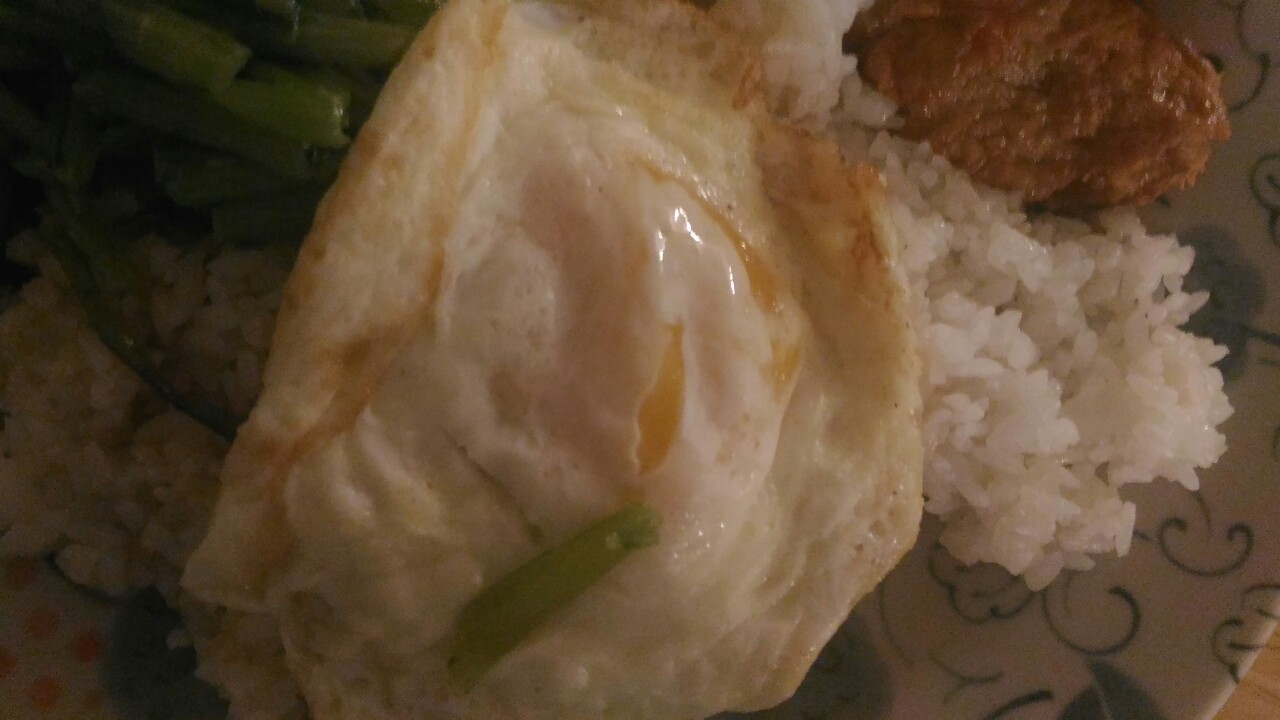fried_eggs: (241, 15, 931, 706)
rice: (917, 169, 1231, 580)
